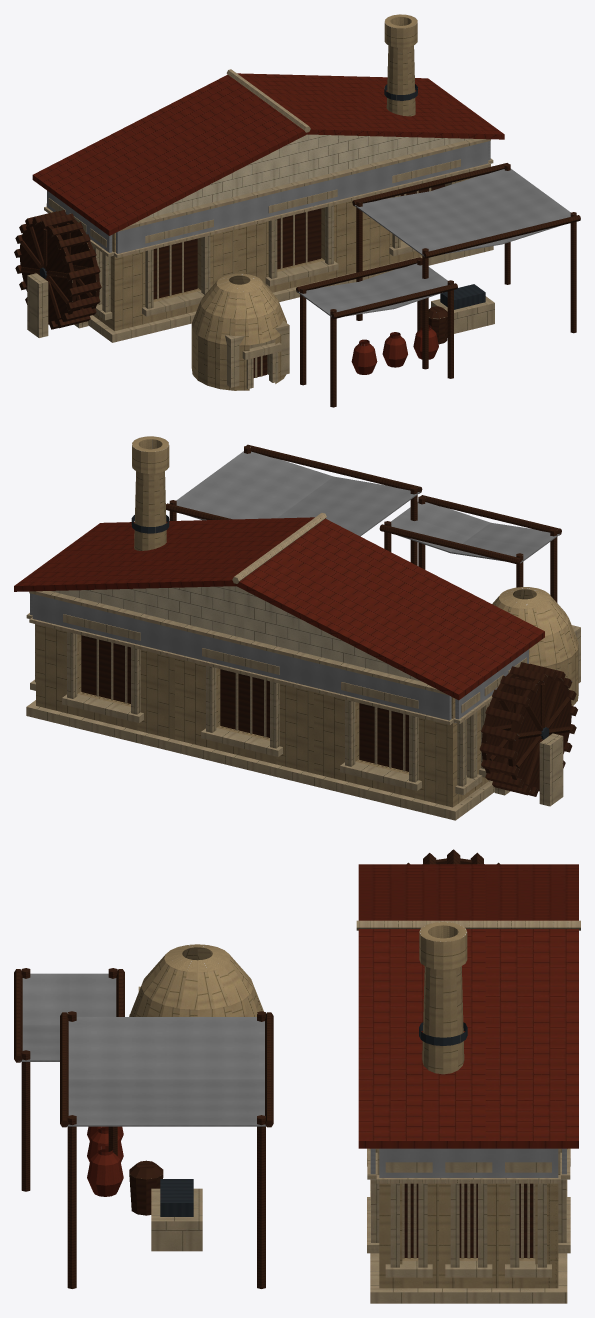
Rendered from workshop.glb.
The picture shows the model from 3 angles, top to bottom: view 1: azimuth 30°, elevation 25°; view 2: azimuth 150°, elevation 25°; view 3: azimuth 270°, elevation 25°; orthographic projection. The views are drawn at different scales.
Visible parts, largest first — view 1: LOD0; view 2: LOD0; view 3: LOD0.
Boxes of the visible parts, x1,y1,x2,y2 form: LOD0: (14, 14, 580, 407); LOD0: (14, 436, 580, 820); LOD0: (14, 849, 580, 1303).
Size of what is drawn, in the model's own units: 1.42 by 0.7 by 1.11.
Materials: 2 (2 with a texture image).
